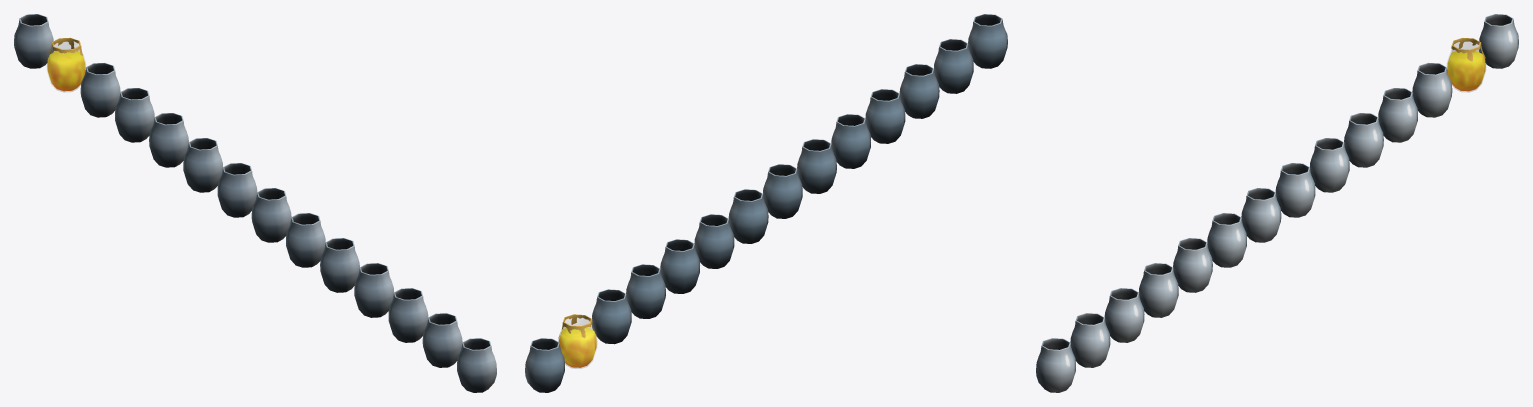
The model's file is AllCocktailsTest.glb.
3 views of the same model, side by side, from view 1: azimuth 30°, elevation 25°; view 2: azimuth 150°, elevation 25°; view 3: azimuth 330°, elevation 25° (orthographic).
Parts seen in each view (by area): view 1: CocktailGlass.014, CocktailGlass.012, CocktailGlass.013, CocktailGlass.011, CocktailGlass.003, CocktailGlass.007, CocktailGlass.006, CocktailGlass.008, CocktailGlass.005, CocktailGlass.010, CocktailGlass.009, CocktailGlass.004 (+3 smaller); view 2: CocktailGlass, CocktailGlass.003, CocktailGlass.011, CocktailGlass.012, CocktailGlass.013, CocktailGlass.006, CocktailGlass.007, CocktailGlass.014, CocktailGlass.009, CocktailGlass.008, CocktailGlass.010, CocktailGlass.004 (+3 smaller); view 3: CocktailGlass.014, CocktailGlass.012, CocktailGlass.013, CocktailGlass.011, CocktailGlass.007, CocktailGlass.006, CocktailGlass.008, CocktailGlass.005, CocktailGlass.003, CocktailGlass.010, CocktailGlass.004, CocktailGlass.009 (+3 smaller).
Part boxes in pixels (box(x1,y1,x2,y2)): CocktailGlass.014: box(457, 338, 496, 392); CocktailGlass.012: box(388, 288, 428, 342); CocktailGlass.013: box(422, 313, 462, 367); CocktailGlass.011: box(354, 263, 393, 317); CocktailGlass.003: box(80, 62, 120, 117); CocktailGlass.007: box(217, 163, 257, 217); CocktailGlass.006: box(183, 138, 222, 192); CocktailGlass.008: box(251, 188, 291, 242); CocktailGlass.005: box(149, 113, 188, 167); CocktailGlass.010: box(320, 238, 359, 292); CocktailGlass.009: box(286, 213, 325, 267); CocktailGlass.004: box(115, 88, 154, 142); CocktailGlass: box(525, 338, 564, 392); CocktailGlass.003: box(592, 289, 631, 344); CocktailGlass.011: box(865, 89, 905, 143); CocktailGlass.012: box(899, 64, 939, 118); CocktailGlass.013: box(934, 39, 973, 93); CocktailGlass.006: box(694, 214, 734, 268); CocktailGlass.007: box(728, 189, 768, 243); CocktailGlass.014: box(968, 14, 1007, 68); CocktailGlass.009: box(797, 139, 836, 193); CocktailGlass.008: box(763, 164, 802, 218); CocktailGlass.010: box(831, 114, 870, 168); CocktailGlass.004: box(626, 264, 665, 318); CocktailGlass.014: box(1036, 338, 1075, 392); CocktailGlass.012: box(1104, 288, 1144, 342); CocktailGlass.013: box(1070, 313, 1110, 367); CocktailGlass.011: box(1138, 263, 1178, 317); CocktailGlass.007: box(1275, 163, 1315, 217); CocktailGlass.006: box(1310, 138, 1349, 192); CocktailGlass.008: box(1241, 188, 1281, 242); CocktailGlass.005: box(1344, 113, 1383, 167); CocktailGlass.003: box(1412, 62, 1452, 117); CocktailGlass.010: box(1173, 238, 1212, 292); CocktailGlass.004: box(1378, 88, 1417, 142); CocktailGlass.009: box(1207, 213, 1246, 267).
Size of the model in its own units: 0.0606 by 0.071 by 1.36.
15 materials, 15 textured.
